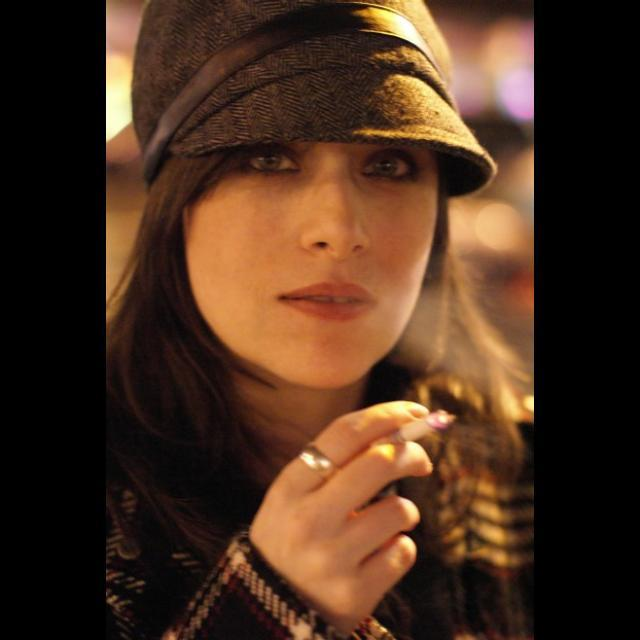rokok: (392, 400, 451, 446)
